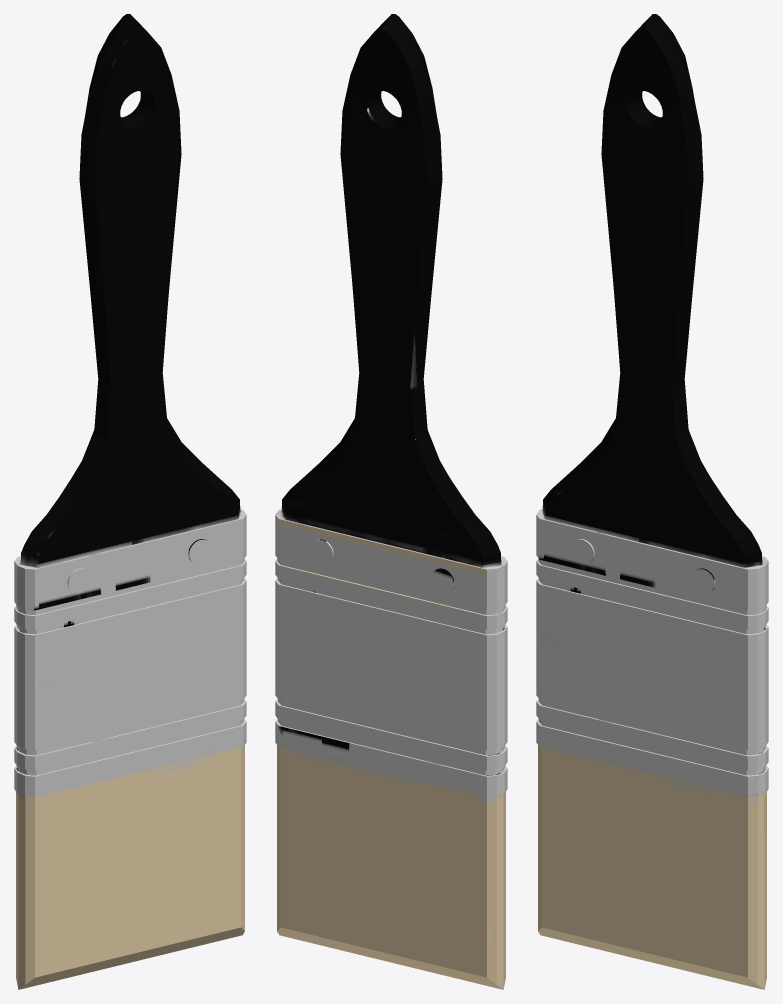
The model's file is Paint_Brush_2.fbx.
3 views of the same model, side by side, from view 1: azimuth 30°, elevation 25°; view 2: azimuth 150°, elevation 25°; view 3: azimuth 330°, elevation 25° (orthographic).
Parts seen in each view (by area): view 1: Cube; view 2: Cube; view 3: Cube.
Boxes of the visible parts, bbox=[...] form: Cube: bbox=[14, 14, 246, 989]; Cube: bbox=[275, 14, 507, 989]; Cube: bbox=[536, 14, 768, 989].
Size of the model in its own units: 300 by 1201 by 44.
